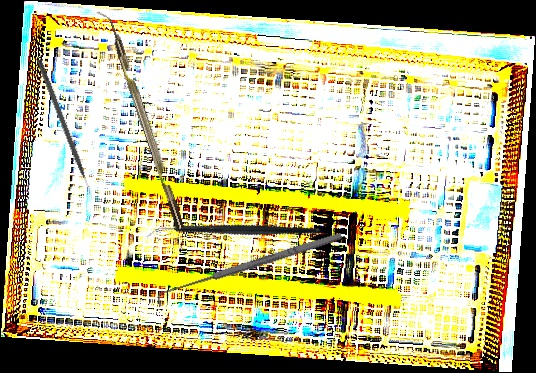Chopper: (144, 171, 322, 295), (94, 6, 185, 234)
Hook Surgical: (153, 229, 346, 308), (35, 58, 96, 201)
